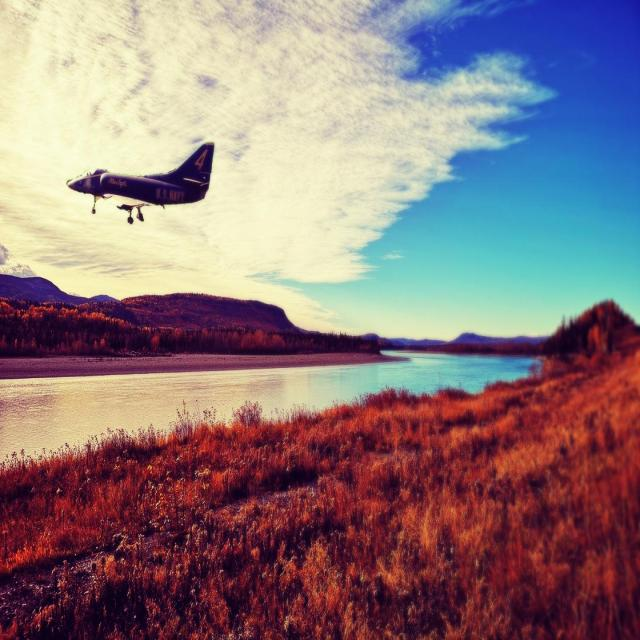airplane: (66, 140, 214, 224)
